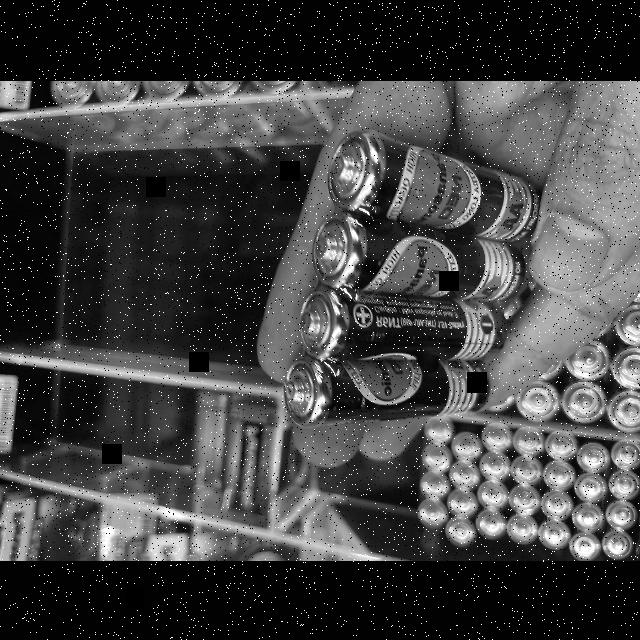battery: (406, 426, 640, 560), (321, 126, 542, 242), (306, 201, 525, 299), (490, 293, 640, 429), (296, 281, 502, 360), (282, 354, 487, 425), (182, 393, 284, 532)
